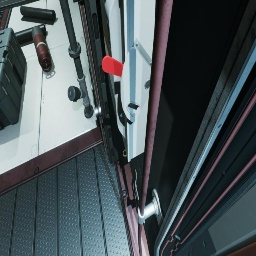NitrogenTank ,: (32, 26, 52, 72)
SafetySwitchPanel ,: (100, 0, 157, 162)
